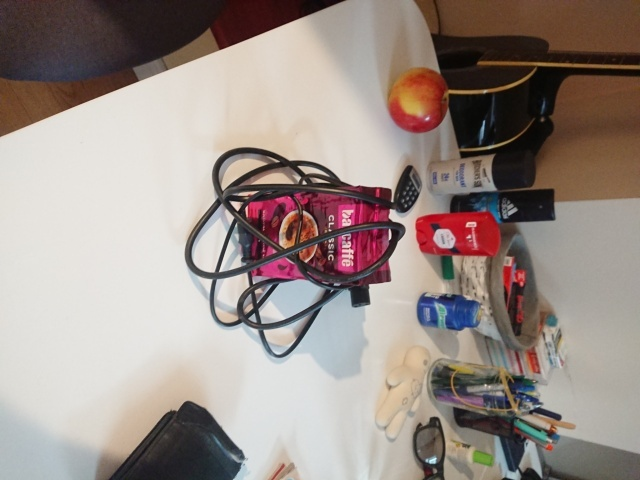Barcaffe Classic Original 225g: (243, 182, 395, 288)
